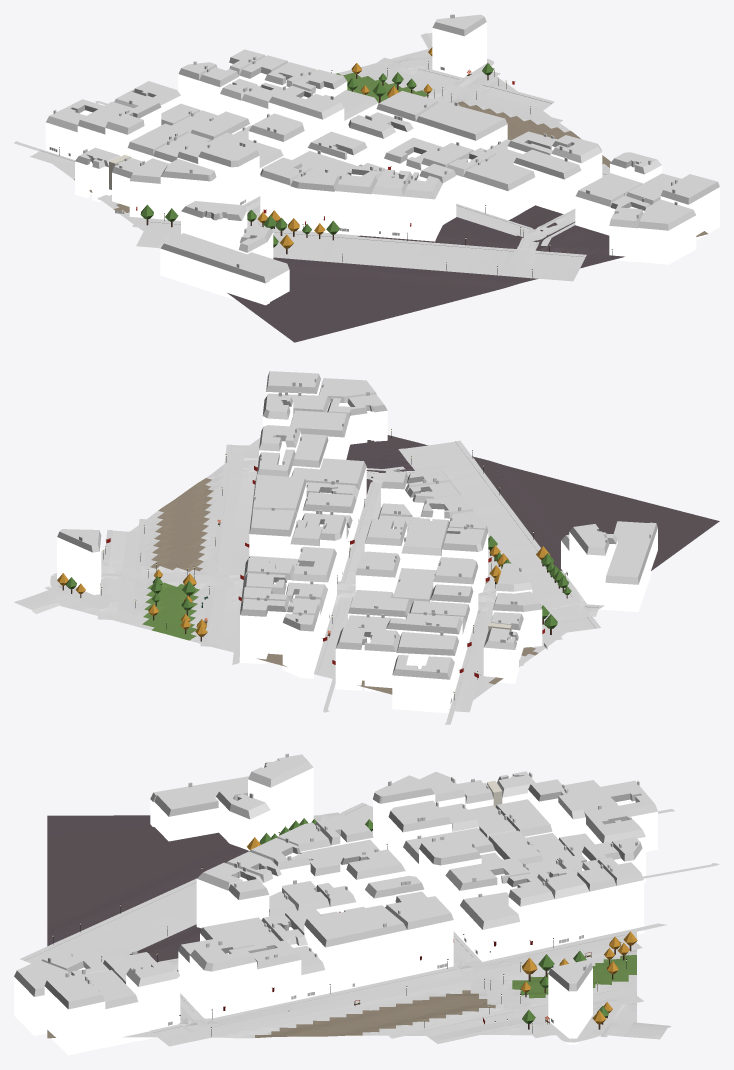
Rendered from zone_C1.glb.
3 views of the same model, one above another, from view 1: azimuth 30°, elevation 25°; view 2: azimuth 150°, elevation 25°; view 3: azimuth 270°, elevation 25° (orthographic). The views are drawn at different scales.
Parts seen in each view (by area): view 1: zone_C1_batiments, zone_C1_terrain, zone_C1_sol_NOCOL, zone_C1_decor_NOCOL; view 2: zone_C1_batiments, zone_C1_sol_NOCOL, zone_C1_terrain, zone_C1_decor_NOCOL; view 3: zone_C1_batiments, zone_C1_terrain, zone_C1_sol_NOCOL, zone_C1_decor_NOCOL.
Part boxes in pixels (bbox=[...]): zone_C1_batiments: bbox=[45, 14, 719, 305]; zone_C1_terrain: bbox=[52, 49, 707, 342]; zone_C1_sol_NOCOL: bbox=[14, 33, 609, 281]; zone_C1_decor_NOCOL: bbox=[59, 47, 612, 277]; zone_C1_batiments: bbox=[57, 371, 657, 713]; zone_C1_sol_NOCOL: bbox=[14, 440, 600, 724]; zone_C1_terrain: bbox=[46, 435, 719, 709]; zone_C1_decor_NOCOL: bbox=[57, 429, 571, 700]; zone_C1_batiments: bbox=[14, 753, 657, 1055]; zone_C1_terrain: bbox=[47, 814, 636, 1038]; zone_C1_sol_NOCOL: bbox=[20, 802, 719, 1046]; zone_C1_decor_NOCOL: bbox=[52, 818, 637, 1036].
Size of the model in its own units: 221 by 29.56 by 255.
